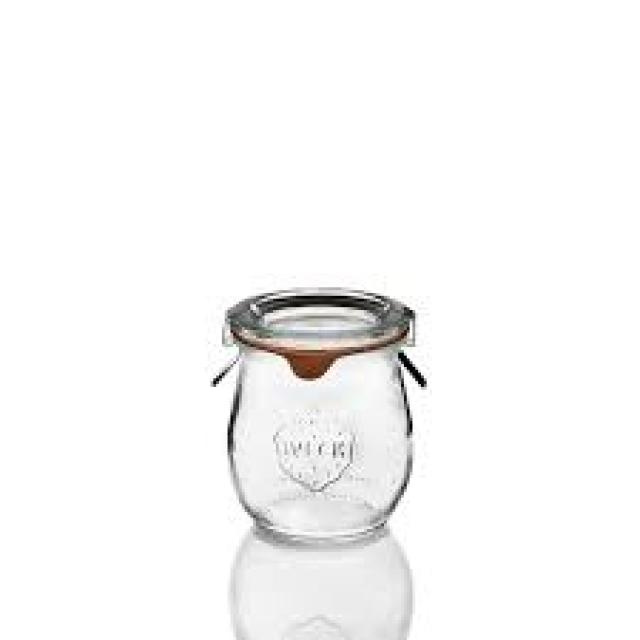glass: (210, 285, 421, 544)
